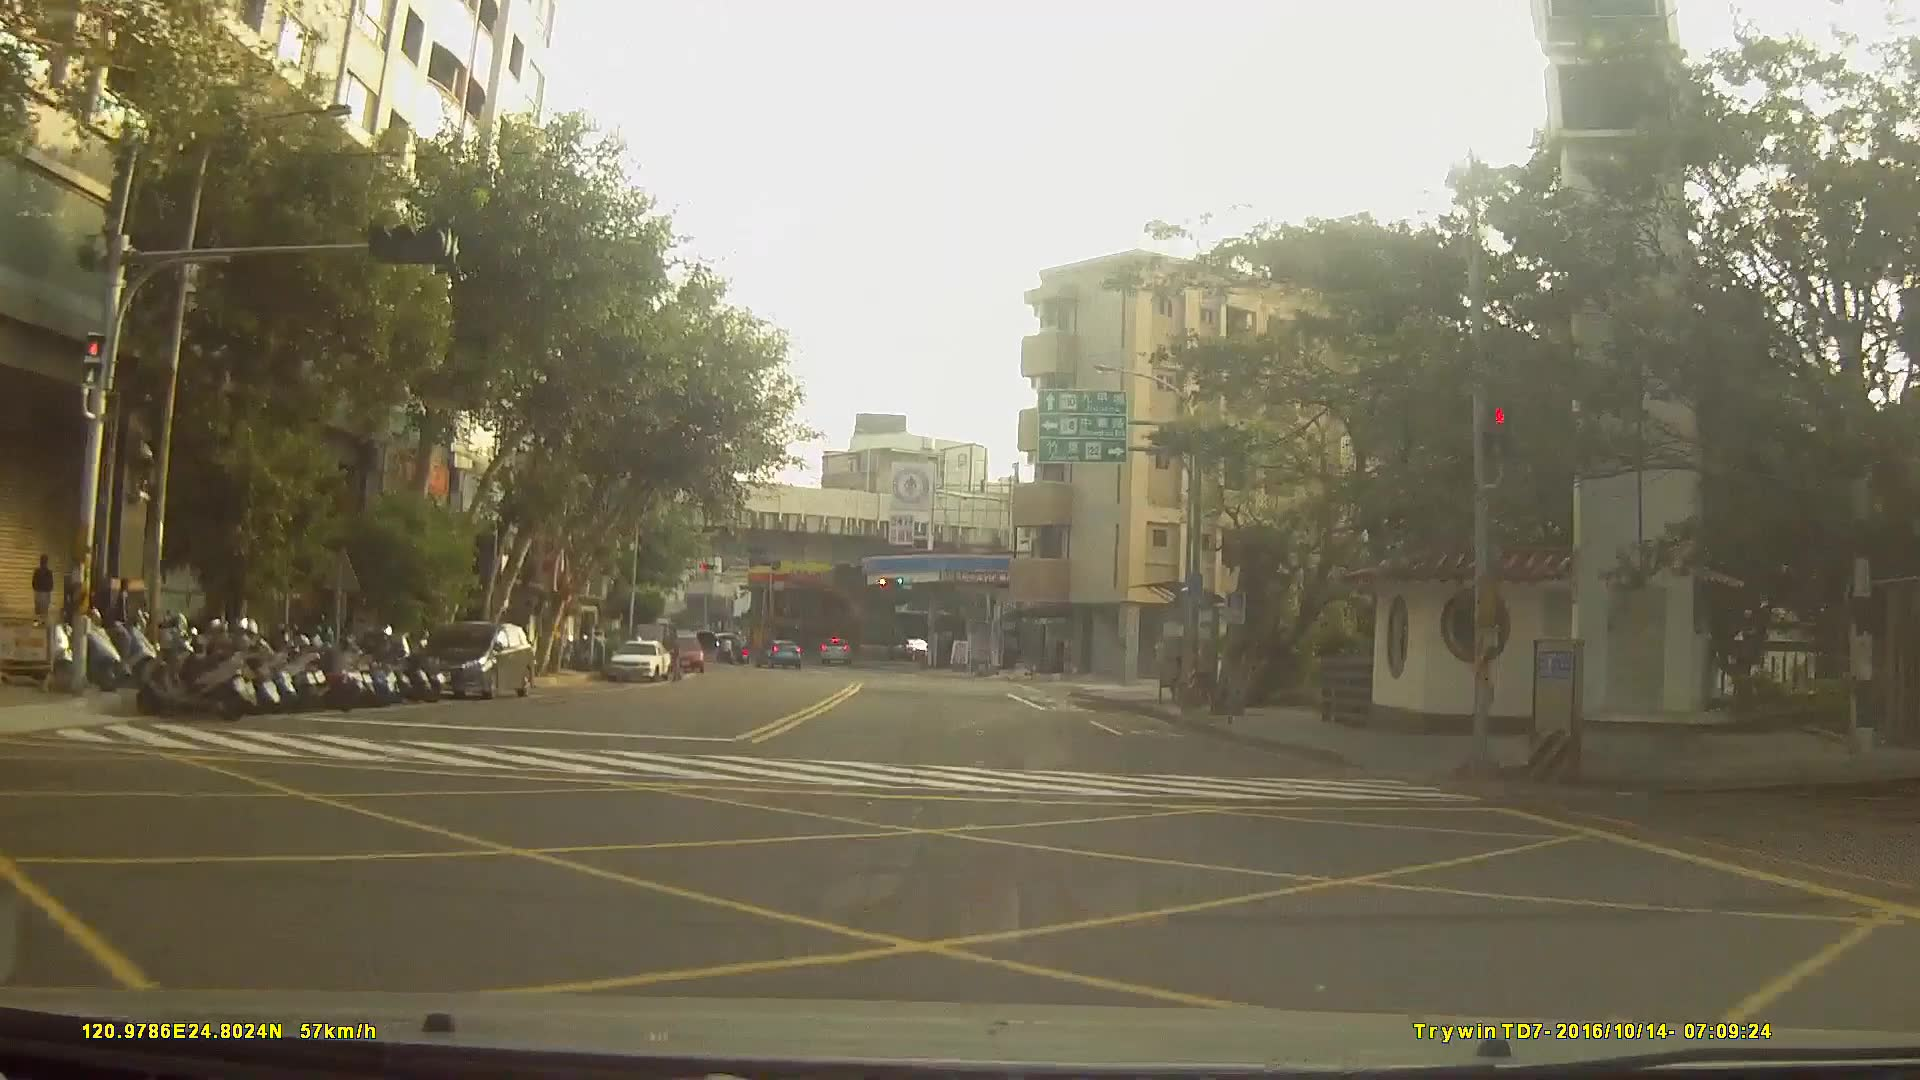pedestrian: (34, 551, 58, 632)
vehicle: (407, 619, 533, 701), (606, 638, 671, 682), (660, 633, 703, 672), (752, 634, 800, 666), (817, 638, 851, 666)
